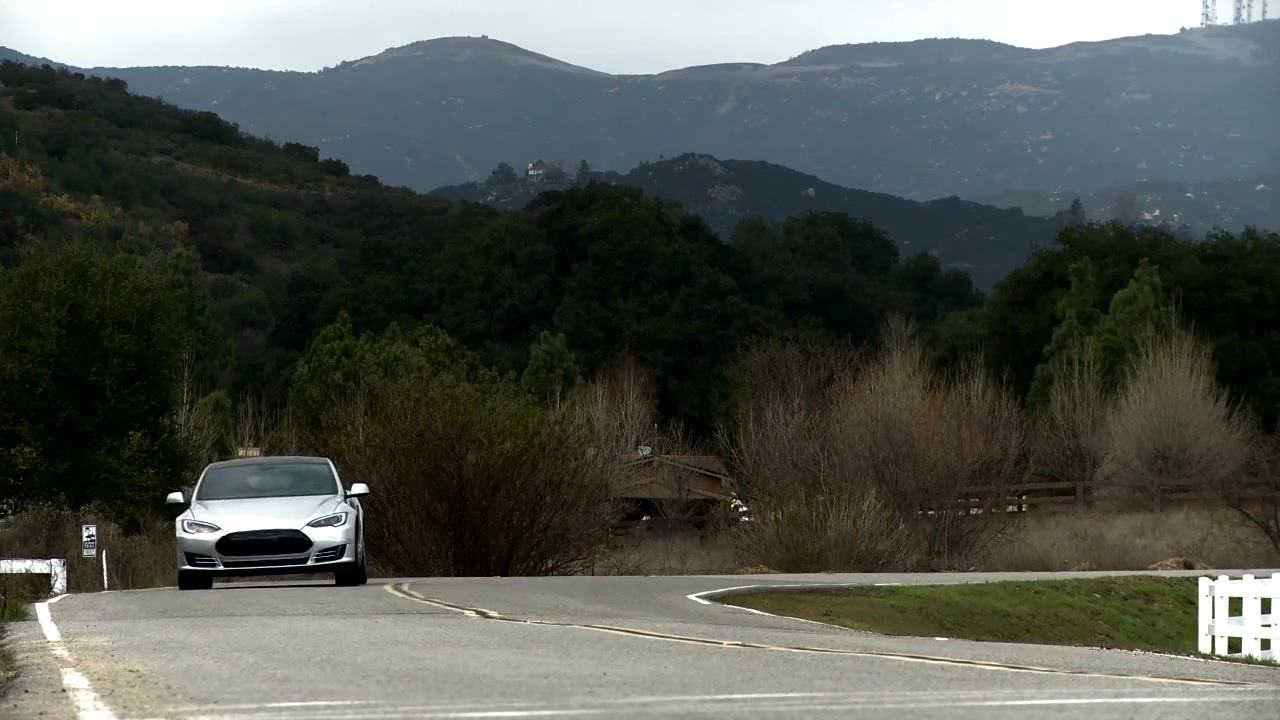car: (165, 452, 374, 590)
